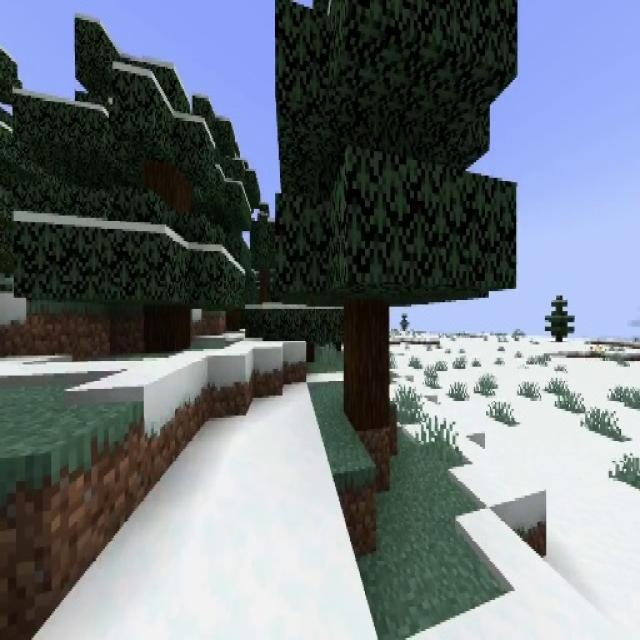spruce: (275, 0, 515, 413), (14, 77, 248, 351), (544, 299, 575, 339)
spruce_log: (346, 310, 390, 422), (149, 307, 185, 348), (306, 345, 314, 363)
